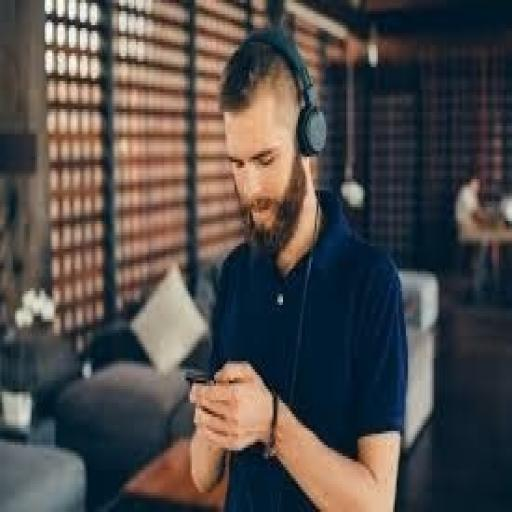listening_to_music: (186, 25, 412, 509)
